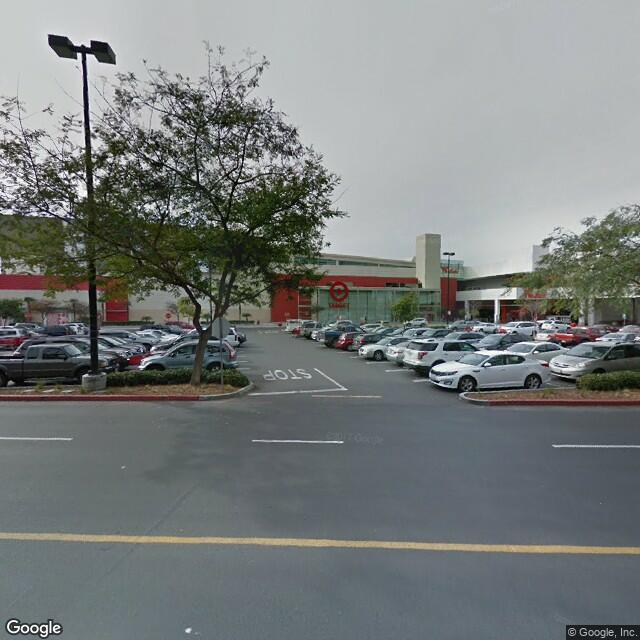litter: (144, 382, 151, 389)
